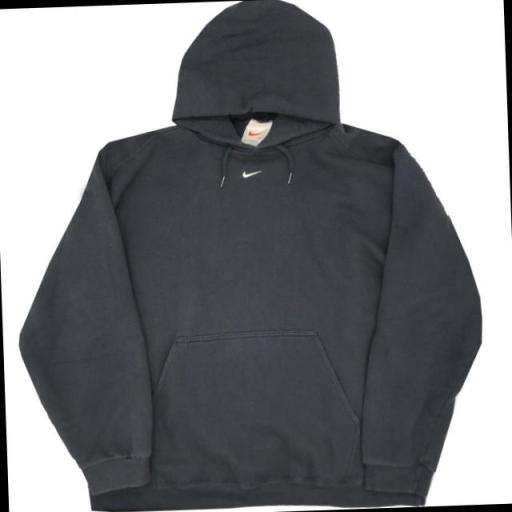Nike: (240, 168, 263, 179)
